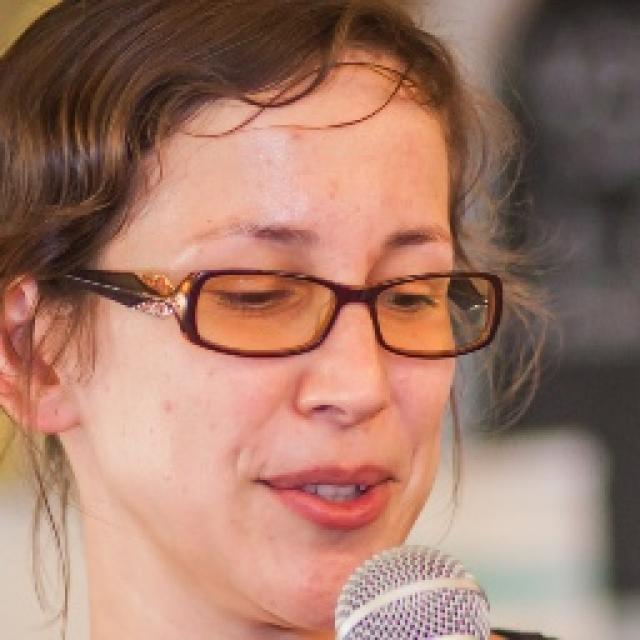earlobe: (0, 272, 79, 437)
